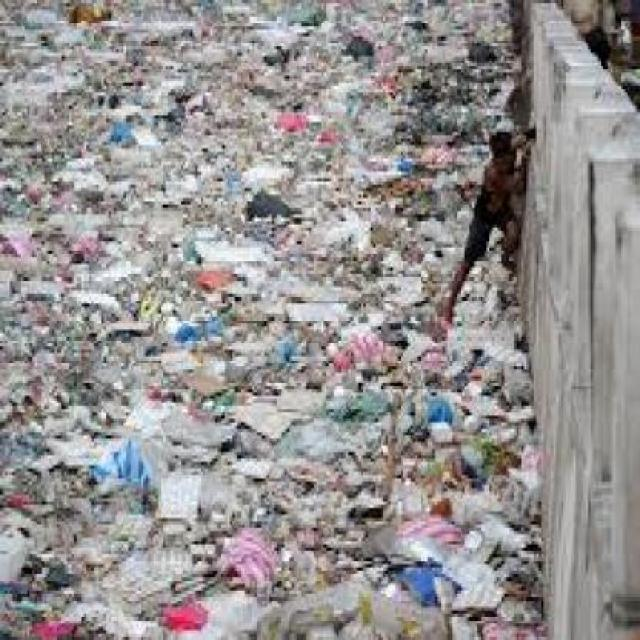garbage: (3, 11, 433, 625), (423, 343, 527, 624), (431, 17, 480, 182)
